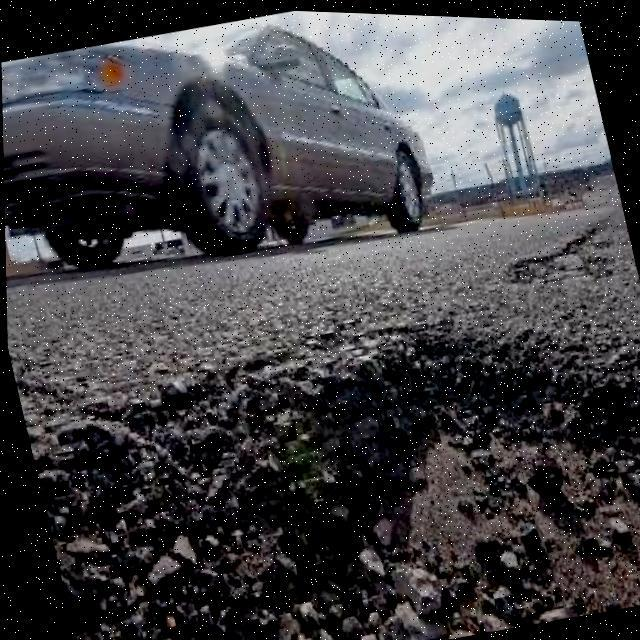pothole: (13, 262, 640, 640)
